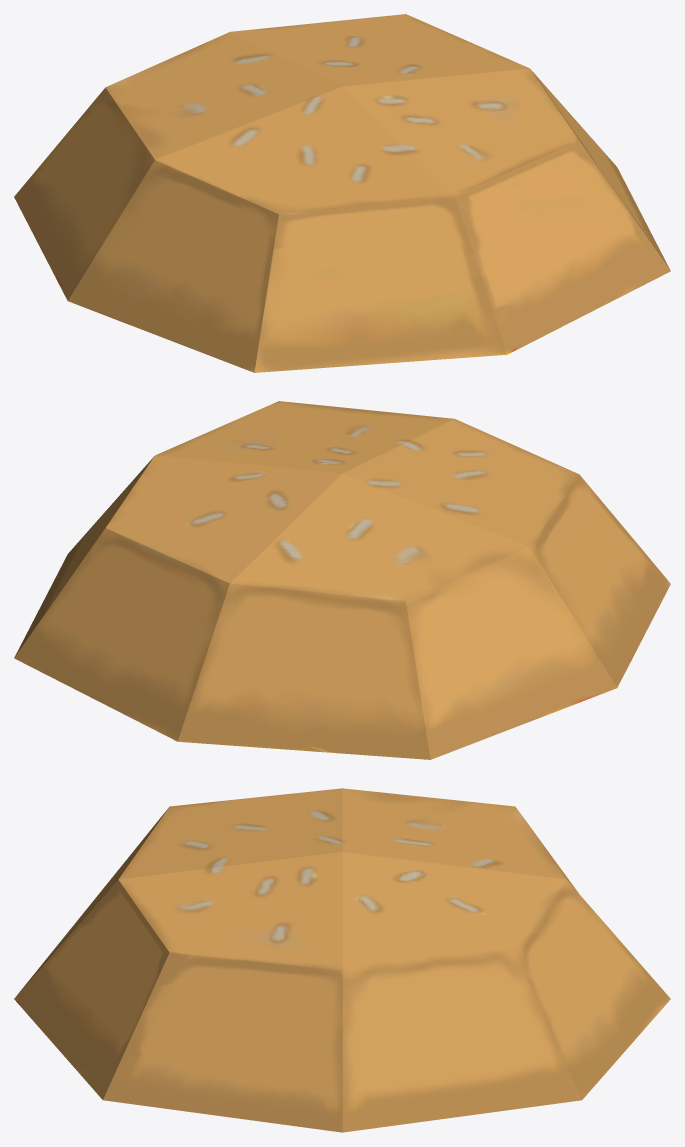
Rendered from Bread_Top.glb.
3 views of the same model, one above another, from view 1: azimuth 30°, elevation 25°; view 2: azimuth 150°, elevation 25°; view 3: azimuth 270°, elevation 25° (orthographic).
Parts seen in each view (by area): view 1: Hamburguer; view 2: Hamburguer; view 3: Hamburguer.
Part boxes in pixels (x1,y1,x2,y2): Hamburguer: [14, 14, 670, 372]; Hamburguer: [14, 401, 670, 759]; Hamburguer: [14, 788, 670, 1132].
Bounding box in the file's own units: 2.64 × 0.6768 × 2.74.
1 material, 1 textured.
